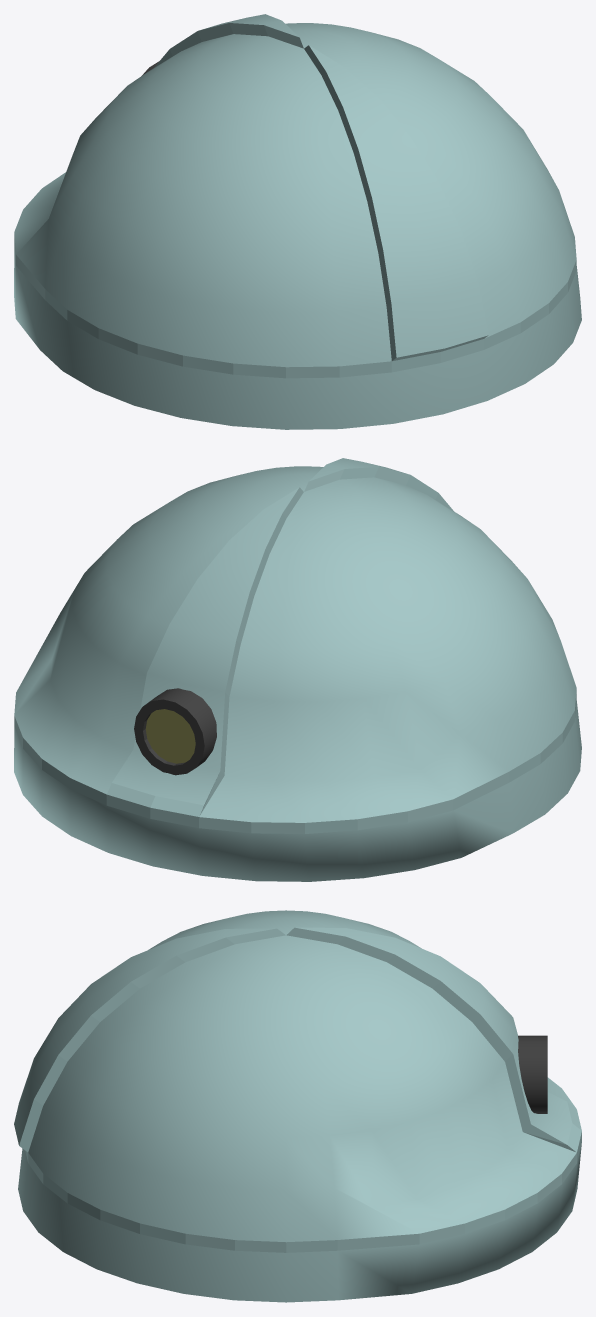
The model's file is miner_cap.FBX.
The picture shows the model from 3 angles, top to bottom: view 1: azimuth 30°, elevation 25°; view 2: azimuth 150°, elevation 25°; view 3: azimuth 270°, elevation 25°; orthographic projection. The views are drawn at different scales.
Parts seen in each view (by area): view 1: Sphere001; view 2: Sphere001; view 3: Sphere001.
Part boxes in pixels (<box>): Sphere001: <box>14,14,581,429</box>; Sphere001: <box>14,458,581,881</box>; Sphere001: <box>14,910,581,1302</box>.
Size of the model in its own units: 10.19 by 10.79 by 5.48.
